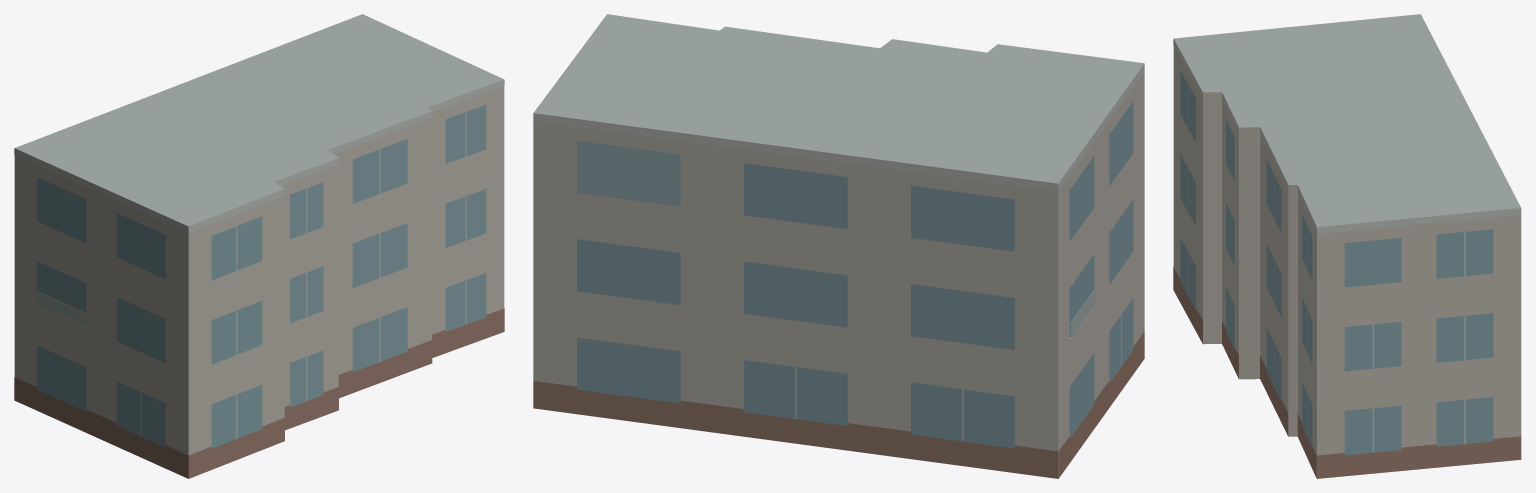
Rendered from survey-upis-32936058.glb.
3 views of the same model, side by side, from view 1: azimuth 30°, elevation 25°; view 2: azimuth 150°, elevation 25°; view 3: azimuth 270°, elevation 25° (orthographic). The views are drawn at different scales.
Parts seen in each view (by area): view 1: survey-upis-32936058.tmp; view 2: survey-upis-32936058.tmp; view 3: survey-upis-32936058.tmp.
Boxes of the visible parts, x1,y1,x2,y2 form: survey-upis-32936058.tmp: [14, 14, 504, 478]; survey-upis-32936058.tmp: [533, 14, 1144, 478]; survey-upis-32936058.tmp: [1173, 14, 1521, 478].
Size of the model in its own units: 16.62 by 9.15 by 11.47.
